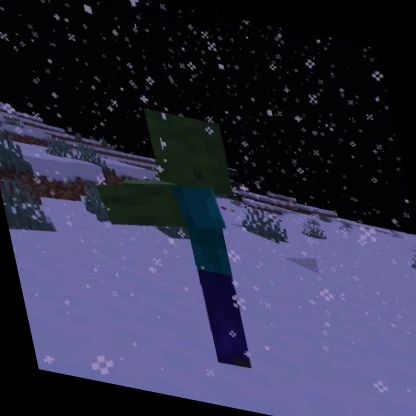zombie: (71, 87, 280, 381)
